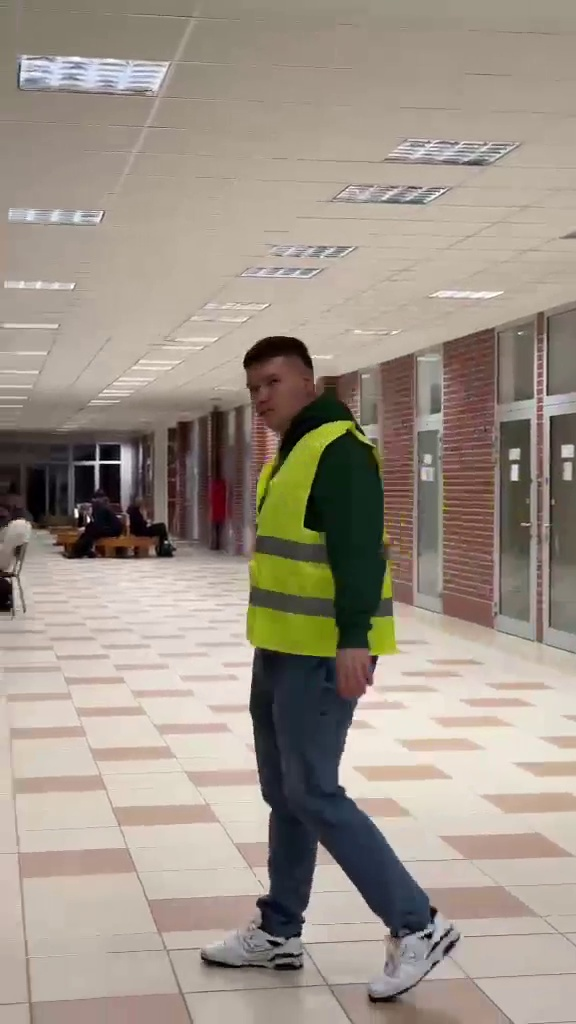vest: (225, 324, 457, 987)
